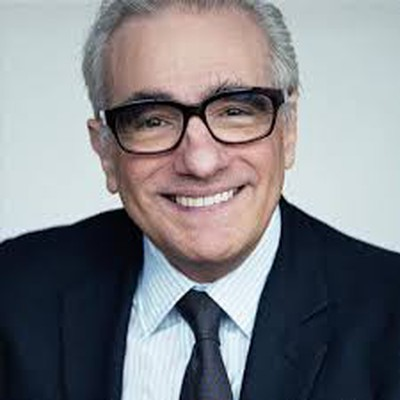eywear: (118, 107, 336, 163)
